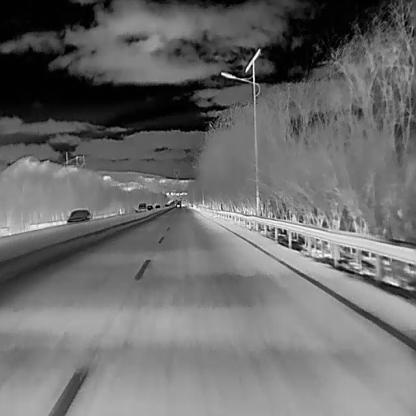bus: (181, 200, 185, 207)
car: (65, 208, 92, 224), (134, 201, 148, 213), (146, 204, 153, 210), (154, 203, 160, 209), (176, 203, 180, 207)
